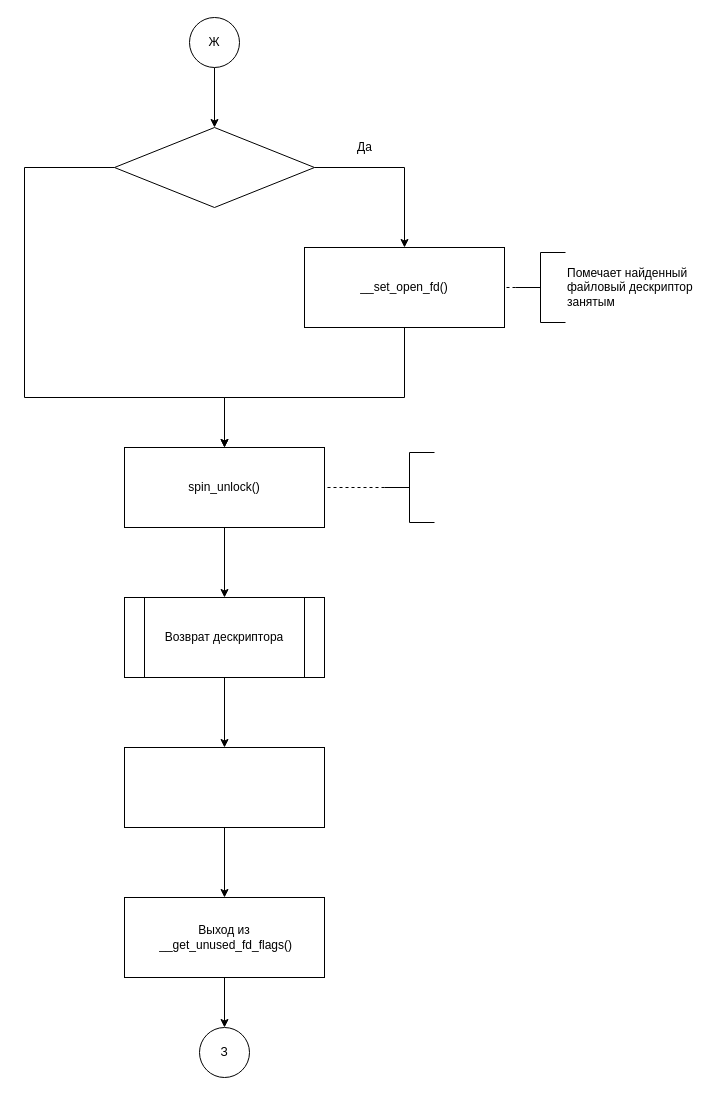
Some shapes in this 714 by 1095 pixel diagram are drawn without their labels. Here are the shapes that lost their labels. From the top down, the centre of each, then its label:
At (x=214, y=167): "Дескриптор найден?".
At (x=409, y=487): "Освобождение блокировки".
At (x=224, y=787): "Выход из __alloc_fd()".
